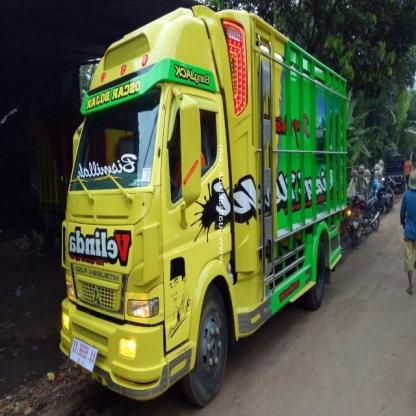truck: (61, 7, 349, 401)
